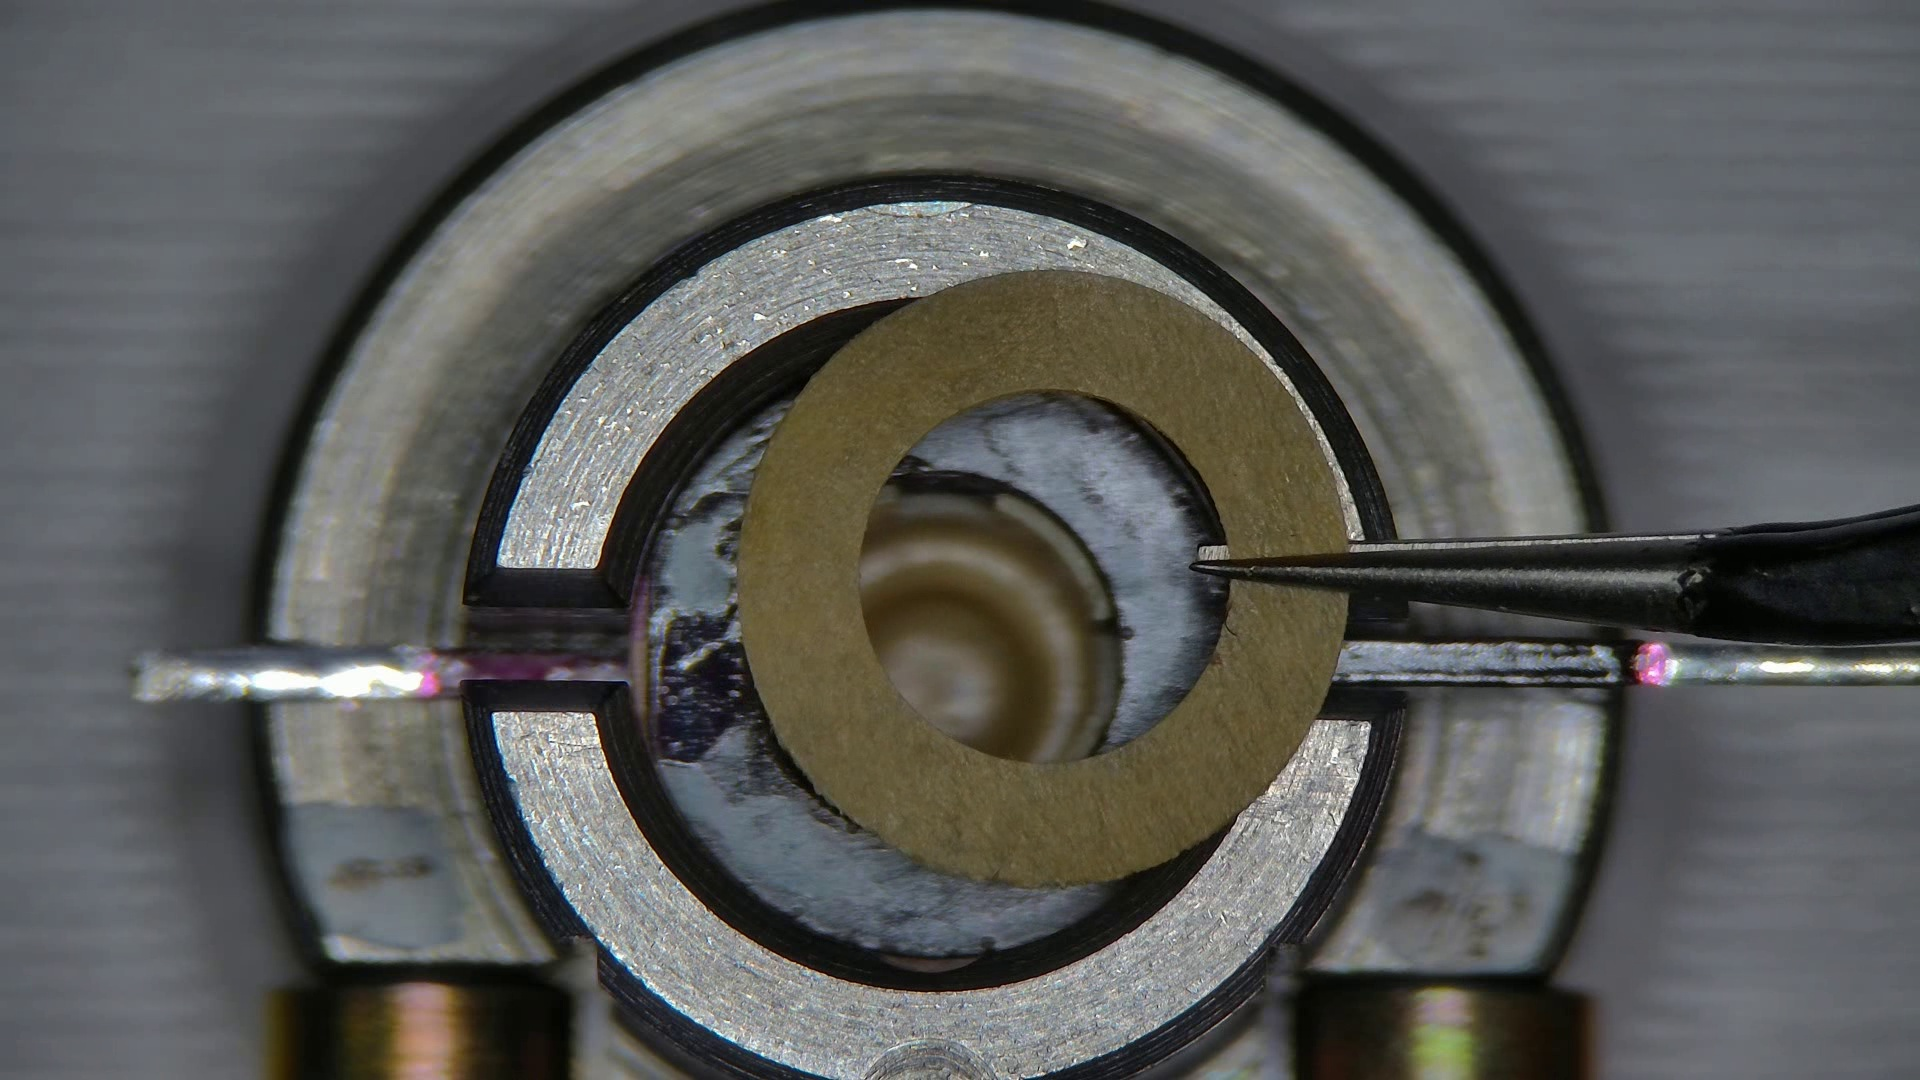YellowOring: (649, 413, 1115, 961), (905, 399, 1215, 747)
redOring: (741, 272, 1343, 882)
